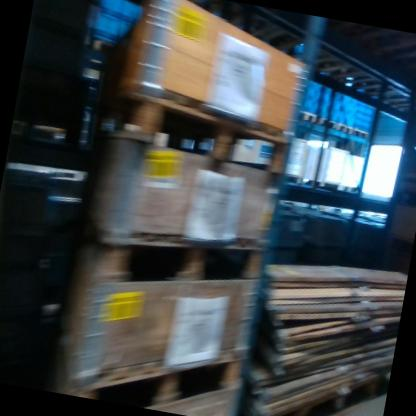pallet: (52, 317, 256, 416), (71, 206, 268, 308), (92, 87, 295, 179), (289, 363, 381, 416), (296, 109, 317, 123), (316, 116, 338, 129), (336, 122, 354, 135), (351, 128, 369, 140)
